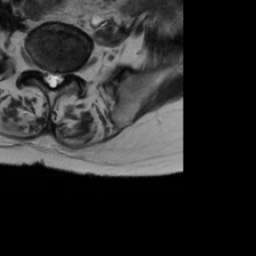CCS_stenosis: (50, 63, 57, 95)
LFS_severe_stenosis: (65, 61, 73, 83)
LLS_normal: (57, 63, 65, 90)
RFS_stenosis: (35, 56, 43, 82)
RLS_normal: (42, 61, 50, 89)
